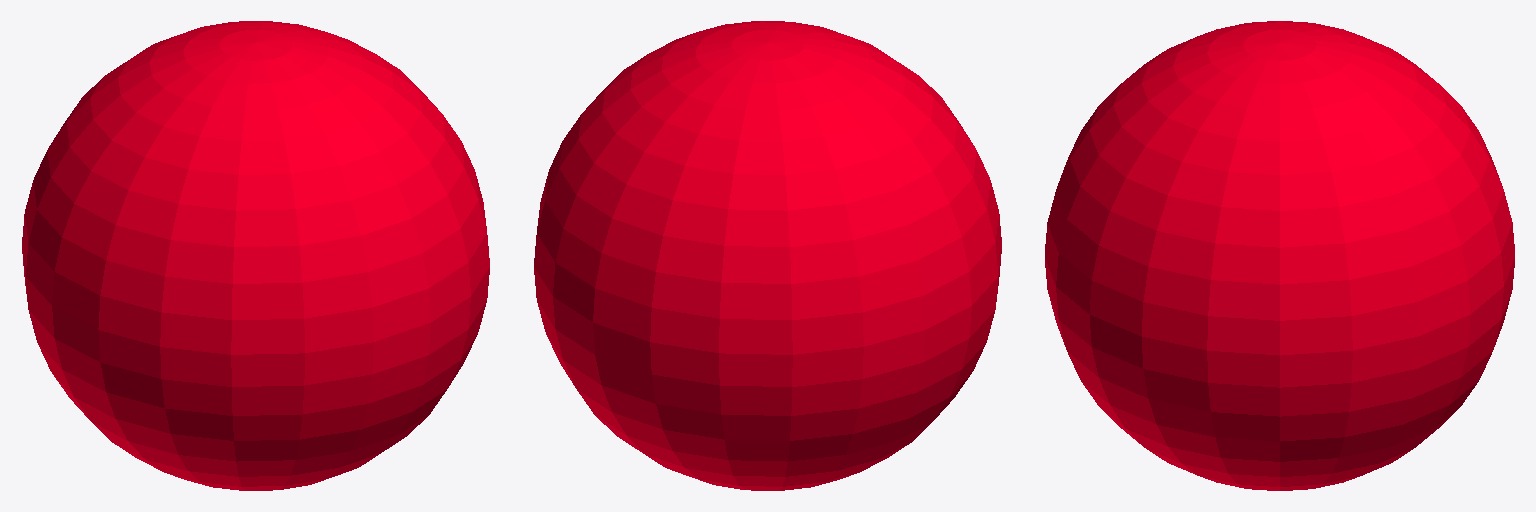
File: ball.obj
3 views of the same model, side by side, from view 1: azimuth 30°, elevation 25°; view 2: azimuth 150°, elevation 25°; view 3: azimuth 270°, elevation 25° (orthographic).
Visible parts, largest first — view 1: ball:pSphere1; view 2: ball:pSphere1; view 3: ball:pSphere1.
Boxes of the visible parts, x1,y1,x2,y2 form: ball:pSphere1: [22, 21, 489, 490]; ball:pSphere1: [534, 21, 1001, 490]; ball:pSphere1: [1045, 21, 1514, 490].
Bounding box in the file's own units: 2 × 2 × 2.